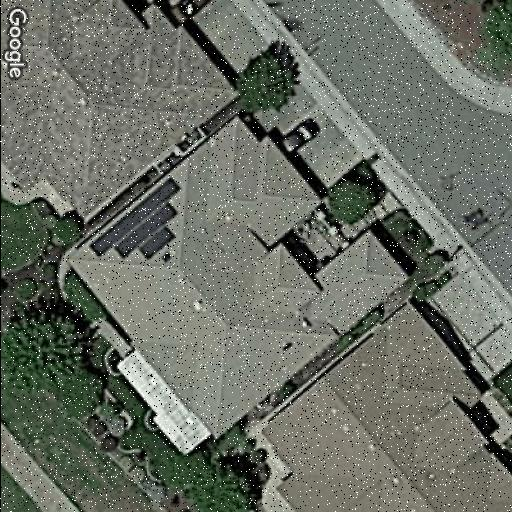solar-panel: (87, 174, 183, 262)
